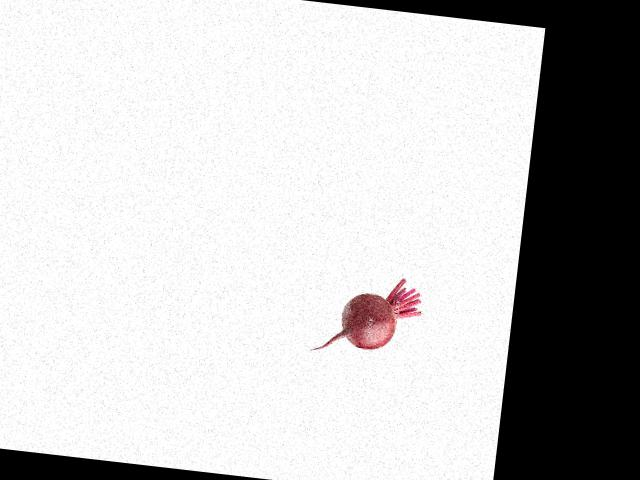beet: (311, 268, 425, 362)
